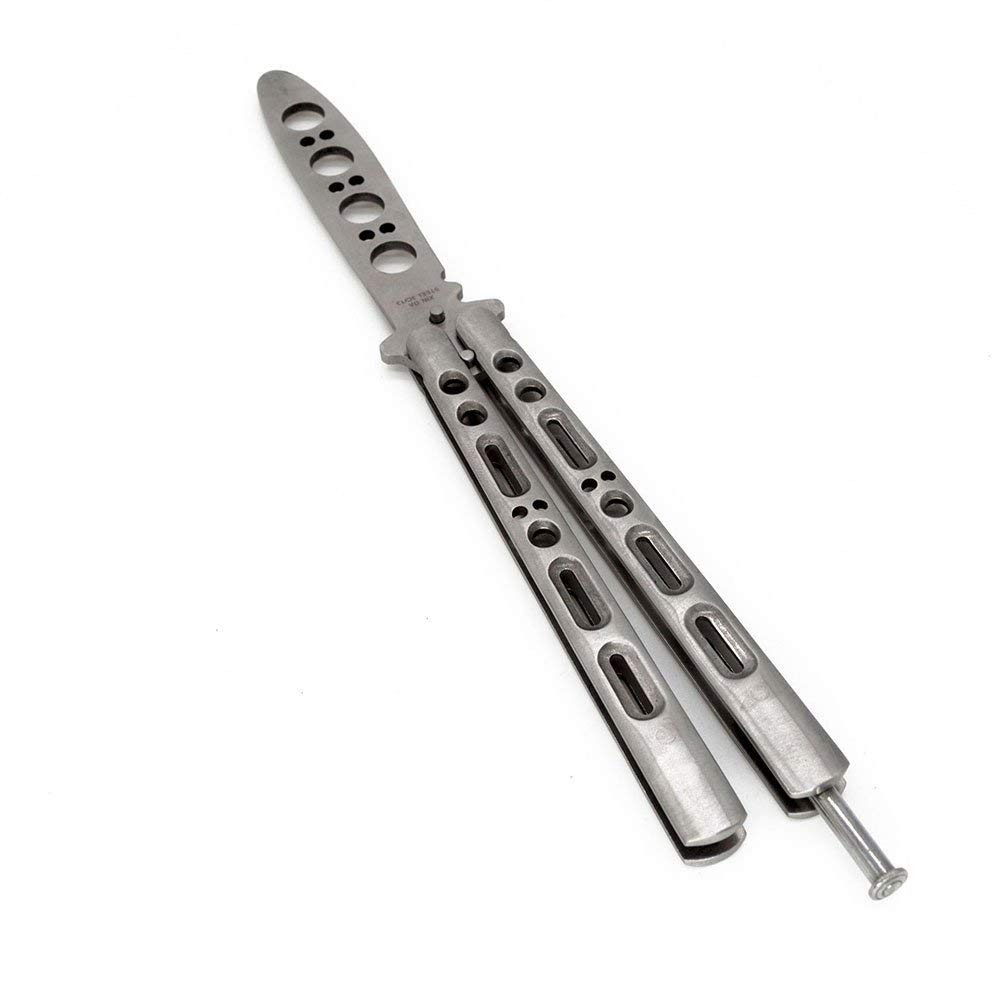knife: (227, 61, 913, 908)
